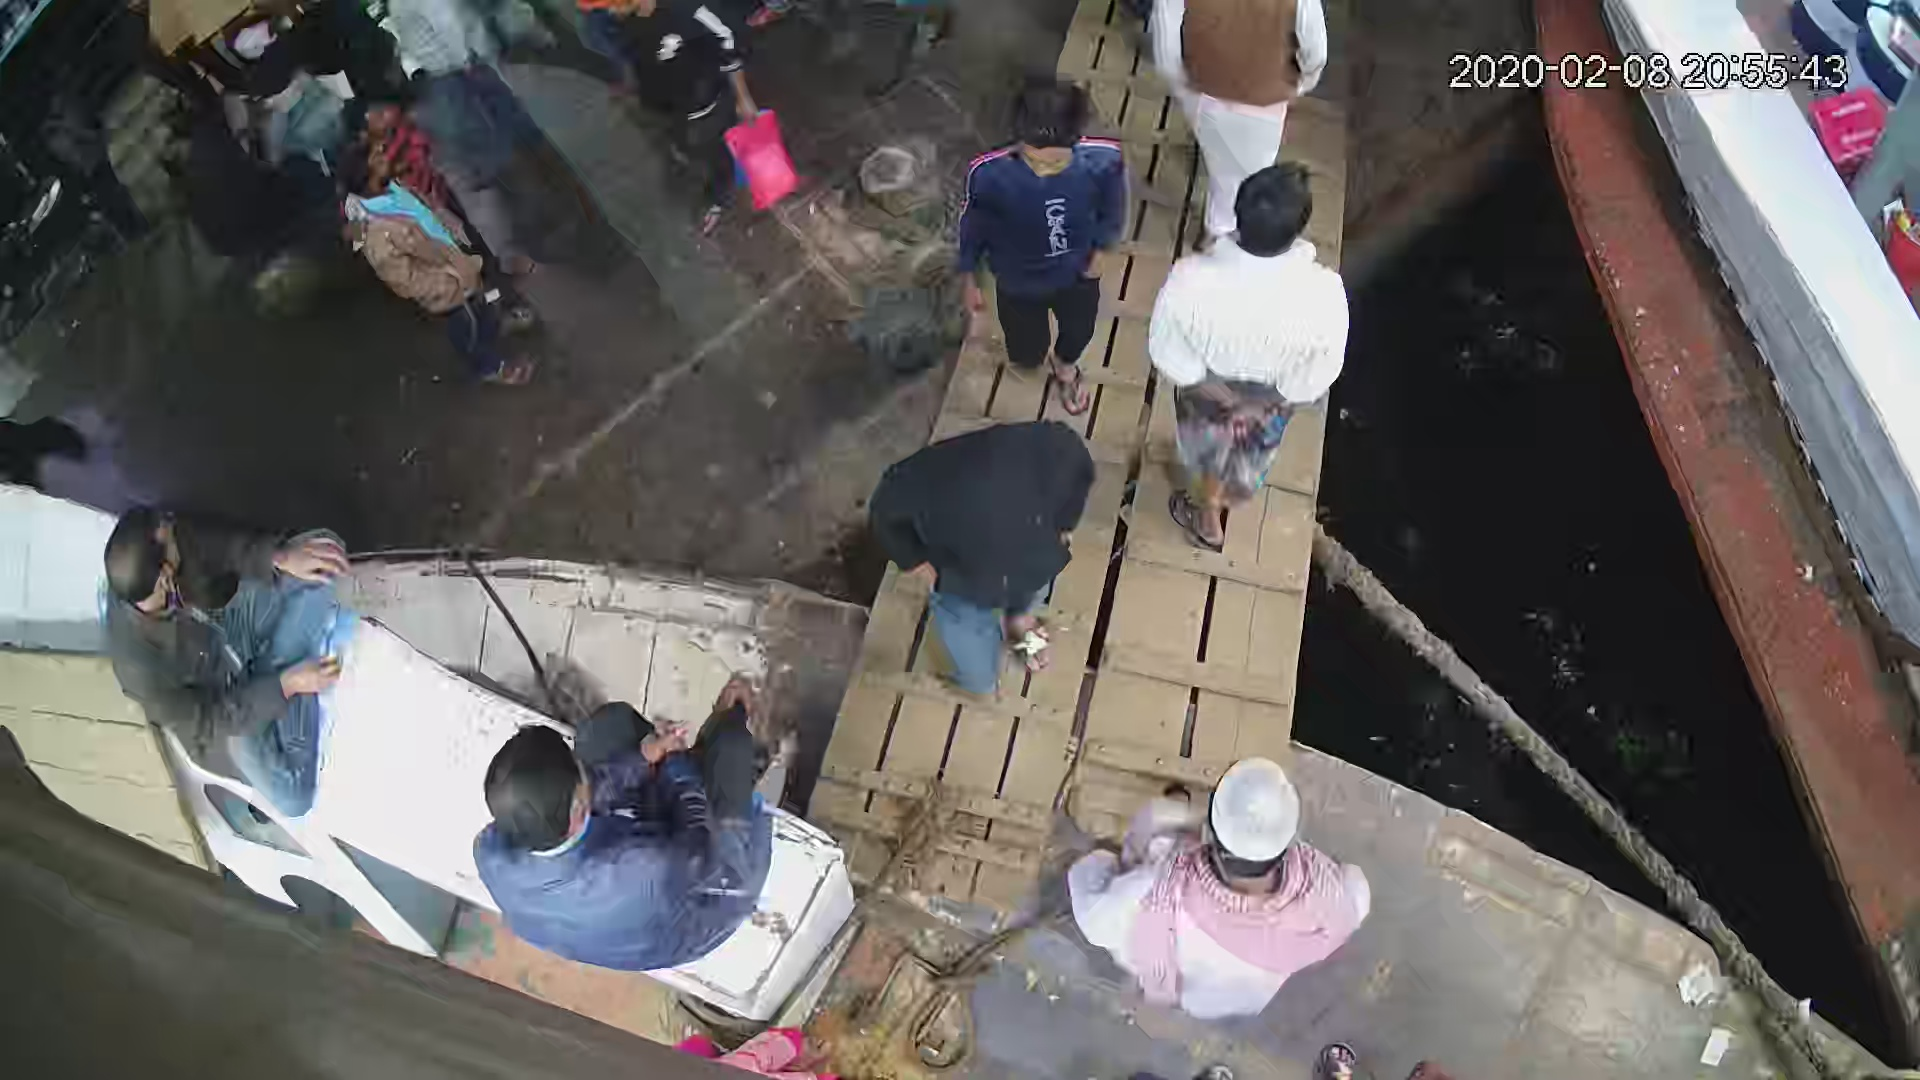person: (470, 674, 782, 980), (1061, 755, 1375, 1026), (1145, 157, 1357, 550), (96, 500, 344, 824), (863, 415, 1097, 713), (950, 70, 1131, 422), (333, 138, 539, 397), (599, 1, 756, 228), (1146, 1, 1333, 165)
